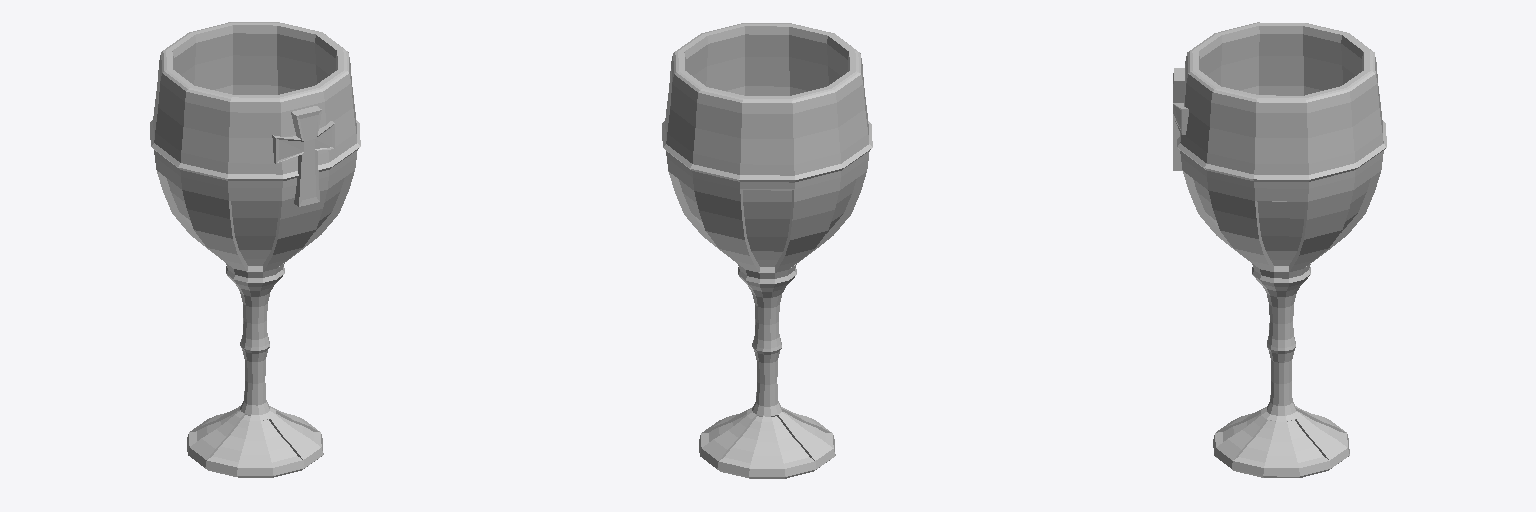
File: calice_cristão.obj
3 renders of one model, left to right at view 1: azimuth 30°, elevation 25°; view 2: azimuth 150°, elevation 25°; view 3: azimuth 270°, elevation 25°, orthographic.
Parts seen in each view (by area): view 1: pCube16; view 2: pCube16; view 3: pCube16.
Part boxes in pixels (x1,y1,x2,y2): pCube16: (150,22,360,477); pCube16: (662,23,872,478); pCube16: (1173,22,1386,477).
Bounding box in the file's own units: 2.6 × 5.31 × 2.64.